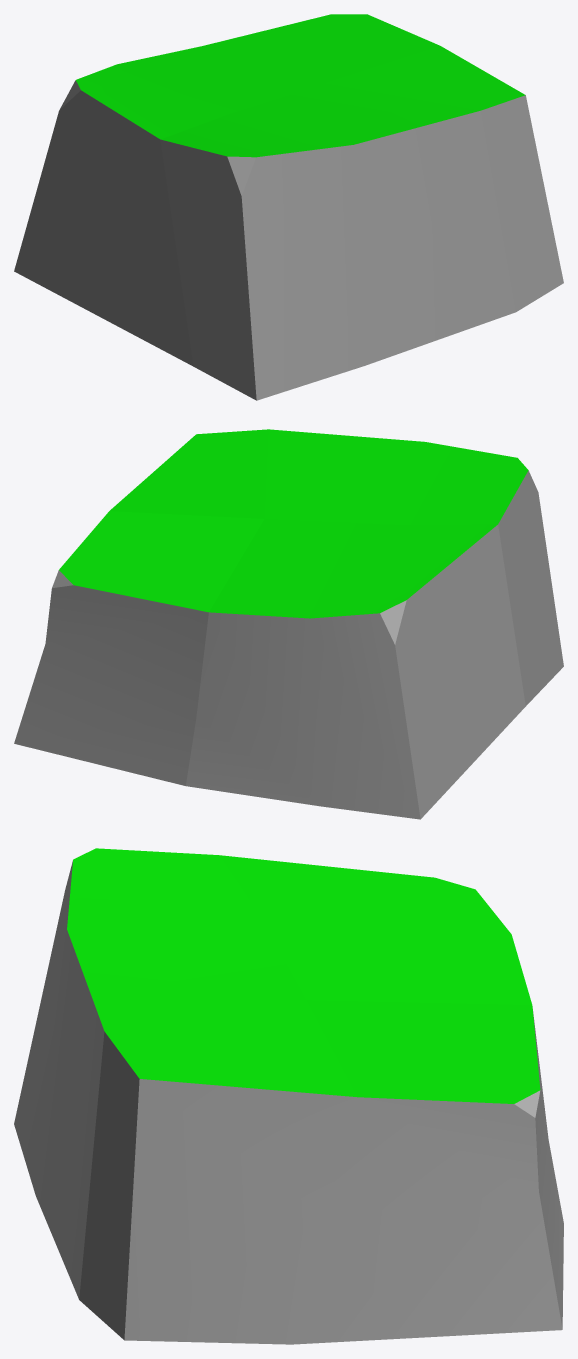
Rendered from rock_gen_medium_A.fbx.
3 renders of one model, top to bottom at view 1: azimuth 30°, elevation 25°; view 2: azimuth 150°, elevation 25°; view 3: azimuth 270°, elevation 25°, orthographic. The views are drawn at different scales.
Visible parts, largest first — view 1: rock_gen_medium_A; view 2: rock_gen_medium_A; view 3: rock_gen_medium_A.
Part boxes in pixels (<box>): rock_gen_medium_A: <box>14,14,563,400</box>; rock_gen_medium_A: <box>14,429,563,819</box>; rock_gen_medium_A: <box>14,848,563,1344</box>.
Size of the model in its own units: 43.2 by 22.37 by 40.
